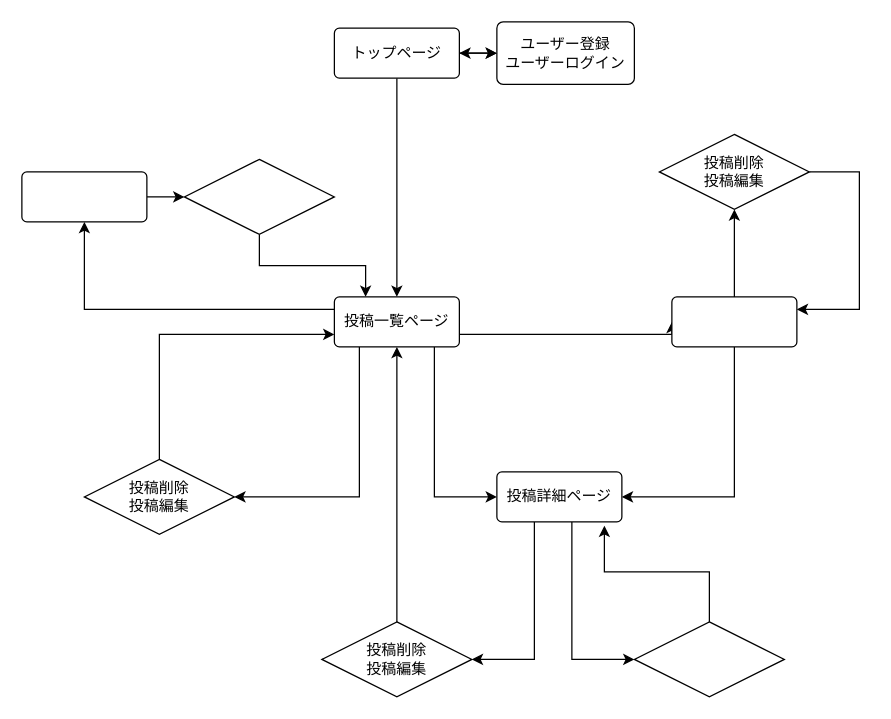
Some shapes in this 891 by 719 pixel diagram are drawn without their labels. Each missing label, with the box of its shape:
コメント: (633, 621, 784, 697)
マイページ: (671, 296, 797, 347)
投稿: (183, 158, 334, 234)
投稿ページ: (21, 171, 147, 222)
